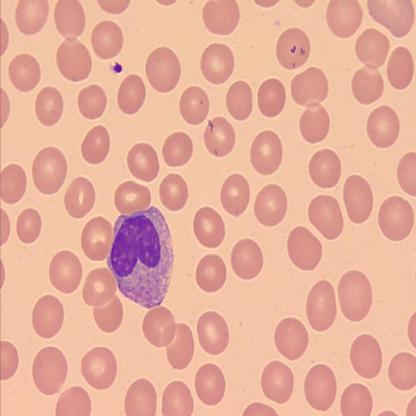Monocyte: (105, 204, 175, 311)
